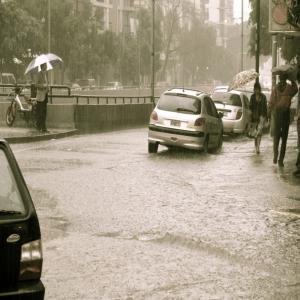Vehicle-registration-plate: (170, 119, 183, 126), (219, 111, 229, 117)
